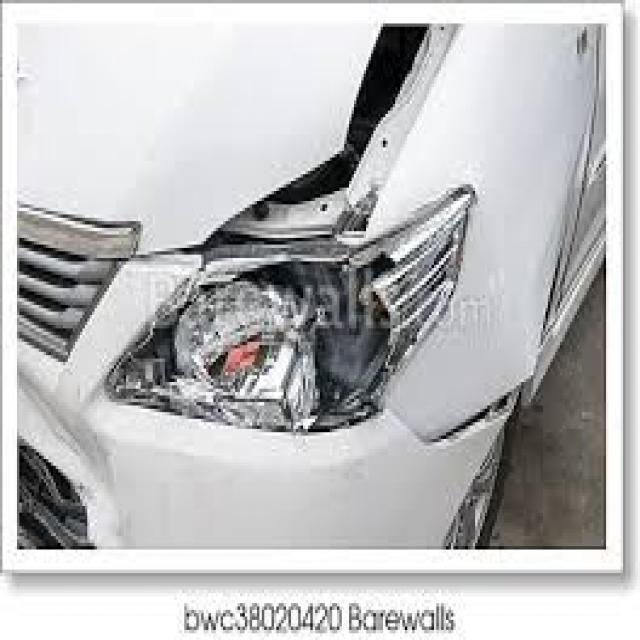minor: (132, 52, 592, 486)
